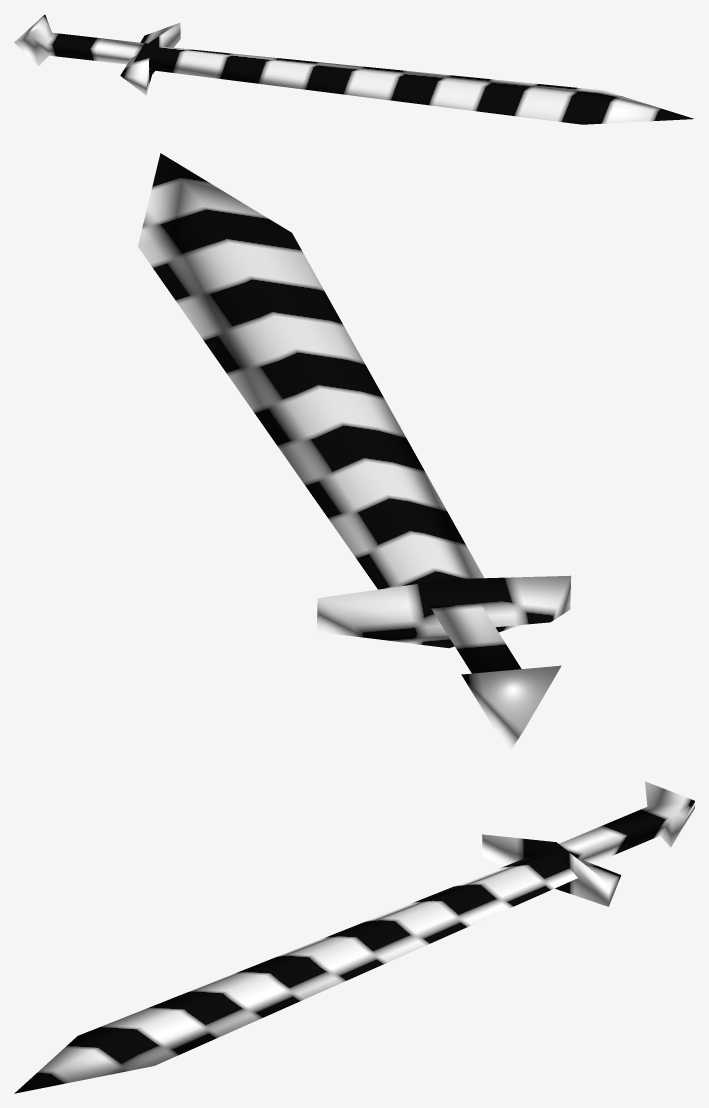
File: initwesw2.dae
3 views of the same model, one above another, from view 1: azimuth 30°, elevation 25°; view 2: azimuth 150°, elevation 25°; view 3: azimuth 270°, elevation 25° (orthographic). The views are drawn at different scales.
Visible parts, largest first — view 1: weapon; view 2: weapon; view 3: weapon.
Boxes of the visible parts, x1,y1,x2,y2 form: weapon: (14,14,693,124); weapon: (138,153,571,752); weapon: (14,781,694,1093).
Bounding box in the file's own units: 1.91 × 1.91 × 0.1772.
1 material, 1 textured.
